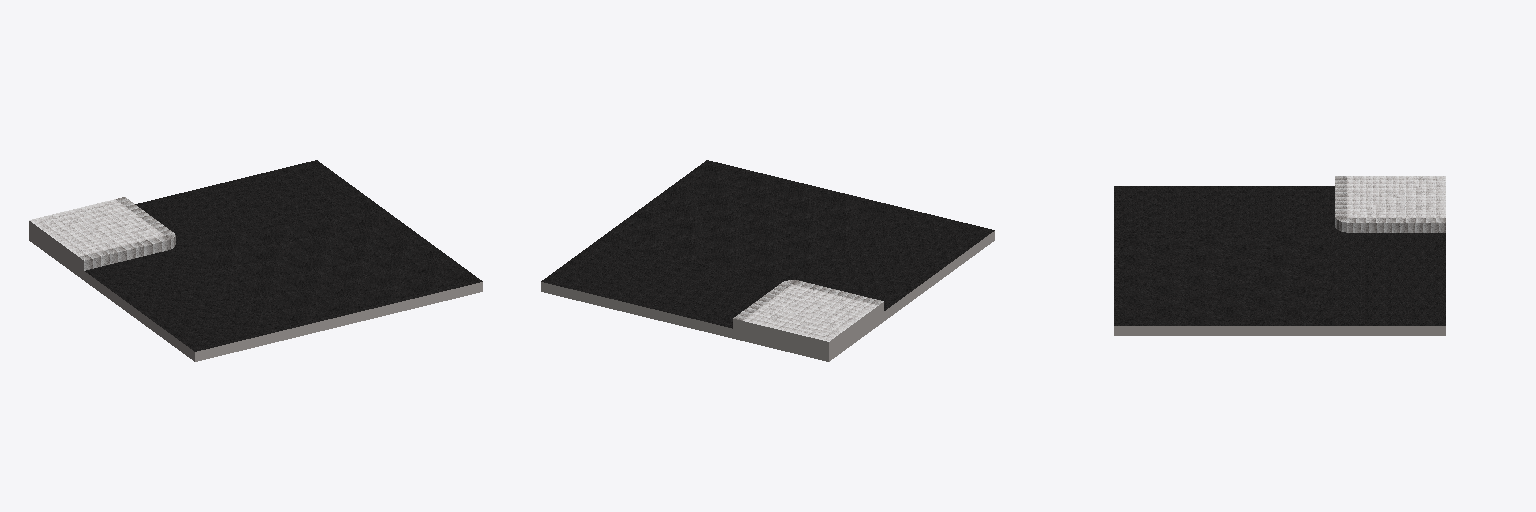
The picture shows the model from 3 angles: view 1: azimuth 30°, elevation 25°; view 2: azimuth 150°, elevation 25°; view 3: azimuth 270°, elevation 25°; orthographic projection.
Parts seen in each view (by area): view 1: Curve_Cube; view 2: Curve_Cube; view 3: Curve_Cube.
Boxes of the visible parts, x1=… form: Curve_Cube: x1=29, y1=160, x2=482, y2=361; Curve_Cube: x1=541, y1=160, x2=994, y2=361; Curve_Cube: x1=1114, y1=176, x2=1445, y2=335.
Size of the model in its own units: 3 by 0.2 by 3.
Materials: 1 (1 with a texture image).